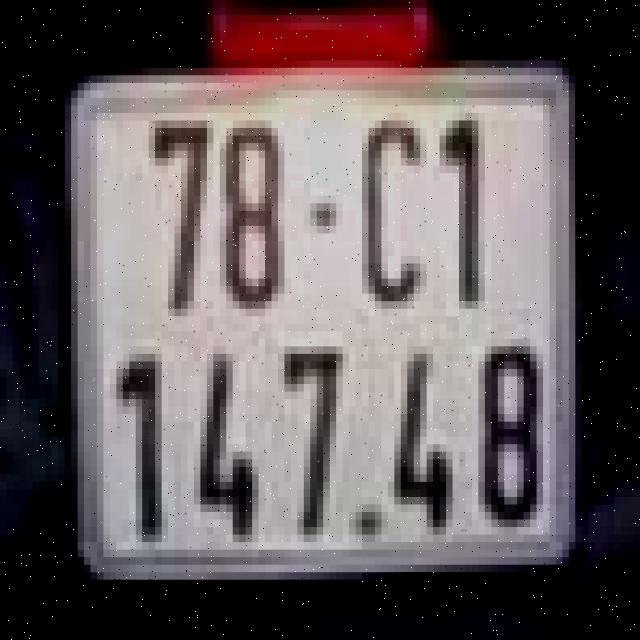1: (436, 109, 501, 320), (110, 338, 168, 550)
4: (184, 347, 268, 558), (385, 331, 462, 542)
7: (262, 320, 339, 546), (142, 102, 214, 320)
8: (462, 327, 559, 546), (217, 109, 300, 313)
C: (343, 102, 433, 320)
